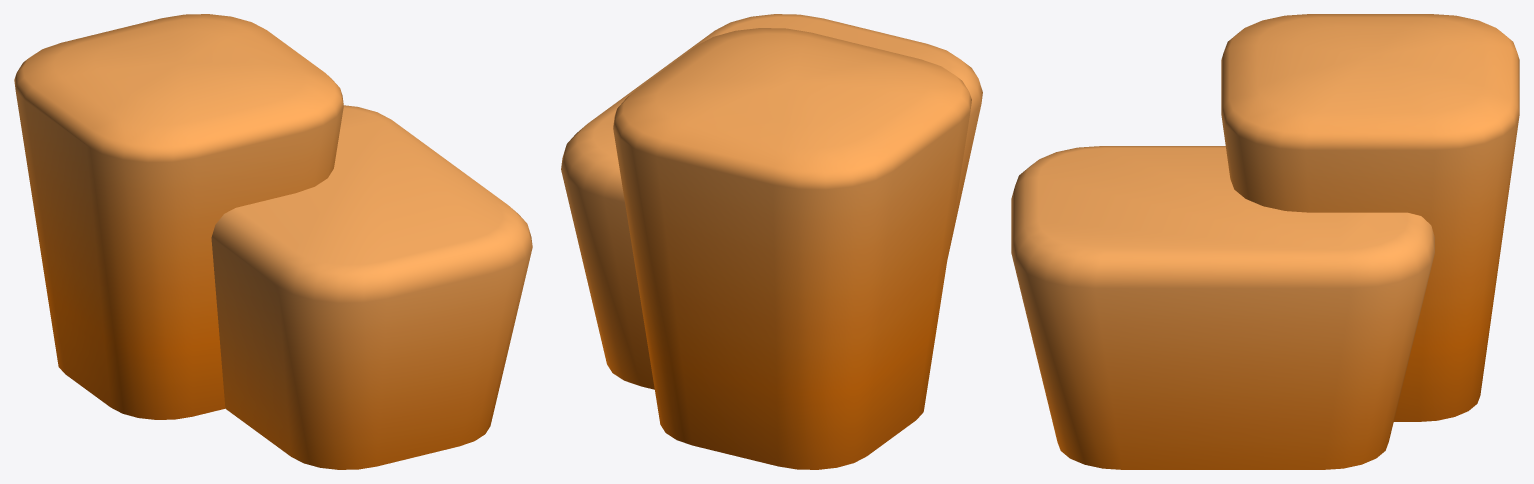
The model's file is Rock_A_03.fbx.
3 views of the same model, side by side, from view 1: azimuth 30°, elevation 25°; view 2: azimuth 150°, elevation 25°; view 3: azimuth 270°, elevation 25° (orthographic). The views are drawn at different scales.
Parts seen in each view (by area): view 1: Rock_A_03; view 2: Rock_A_03; view 3: Rock_A_03.
Boxes of the visible parts, box(x1,y1,x2,y2) form: Rock_A_03: box(14, 14, 532, 469); Rock_A_03: box(561, 14, 982, 469); Rock_A_03: box(1011, 14, 1519, 469).
Bounding box in the file's own units: 157 × 137 × 197.
